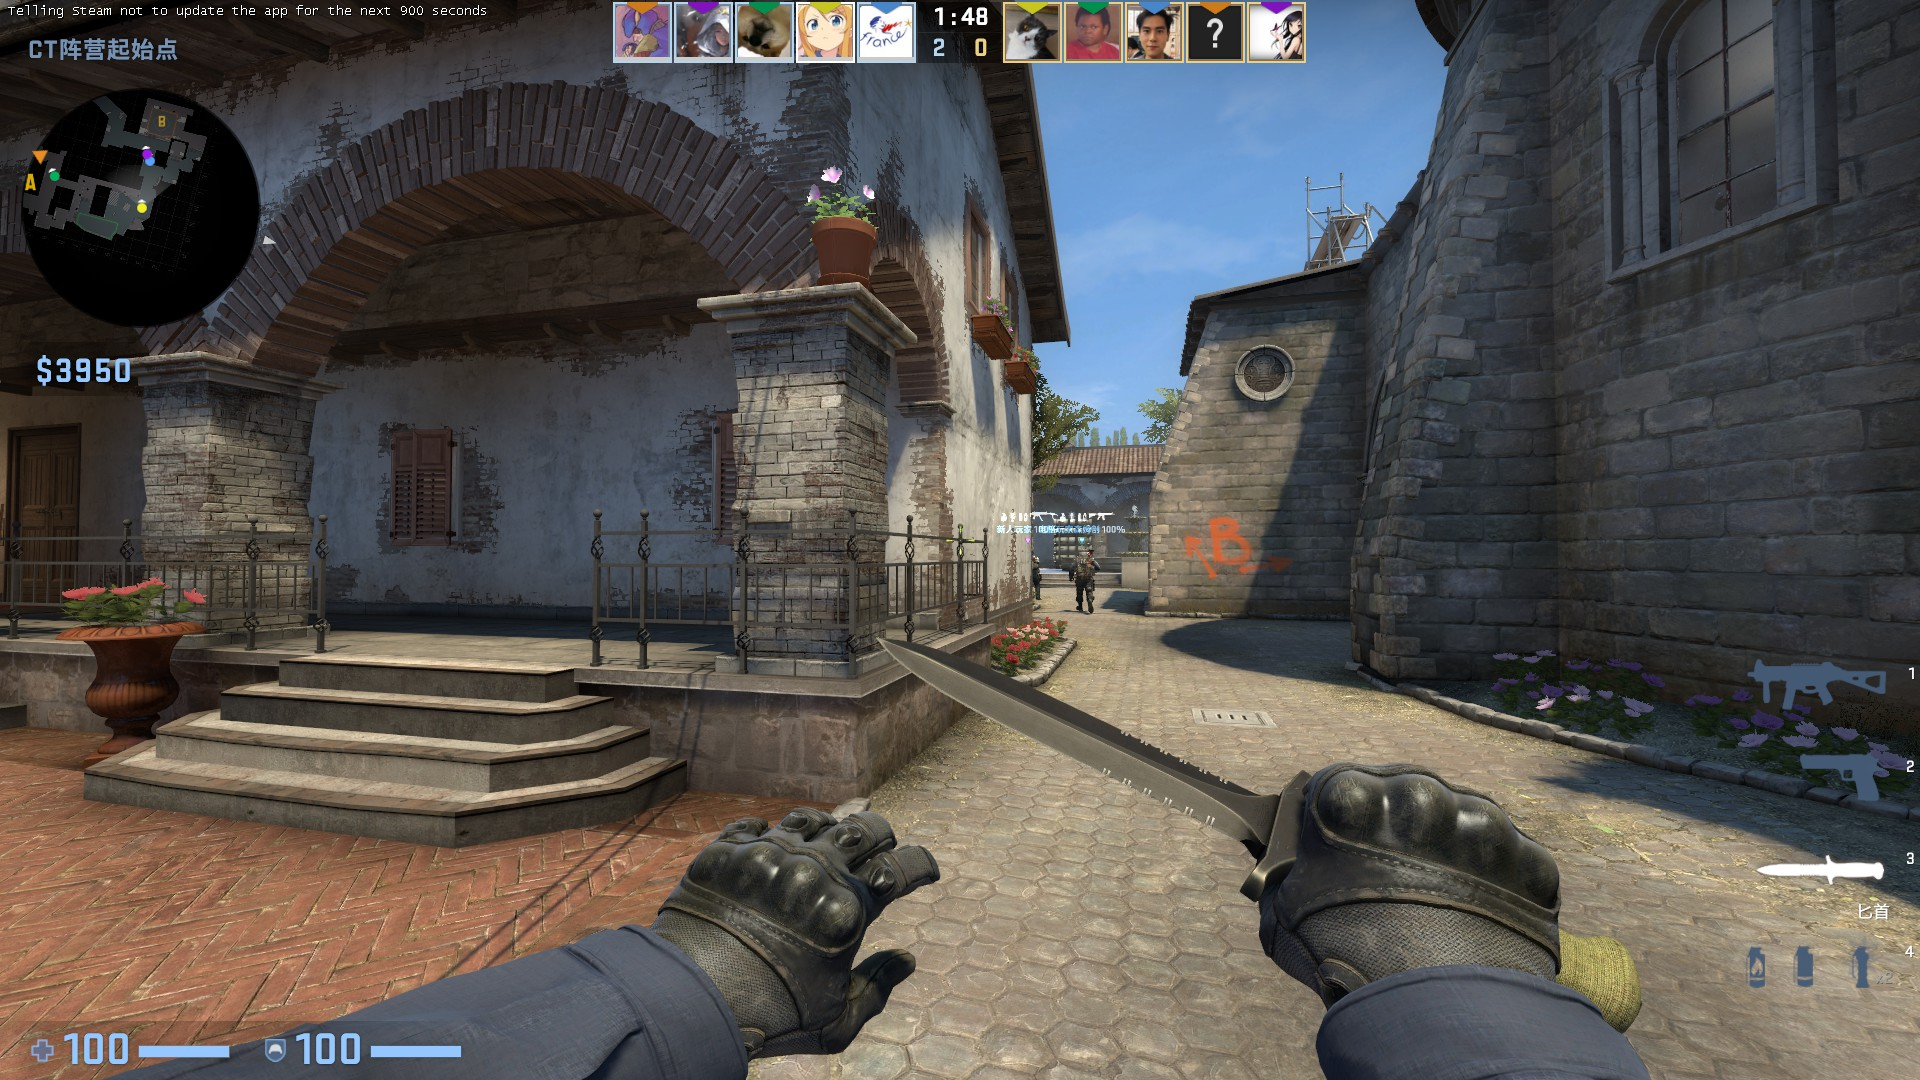head: (1076, 546, 1090, 558), (1027, 549, 1034, 557)
